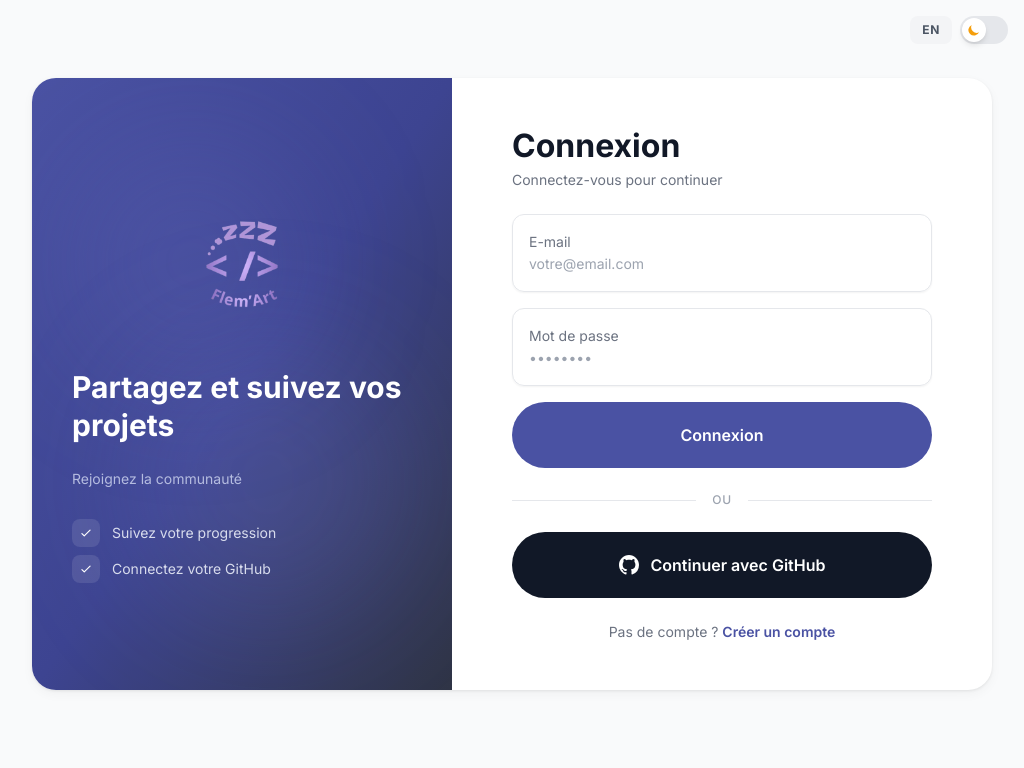
Test: Login Component › should display an error message on failed login
The width and height of the screenshot is (1024, 768).
Step 1. Type "wrong@example.com" into the field with placeholder "votre@email.com" → x=722, y=264, box [529, 254, 915, 274]
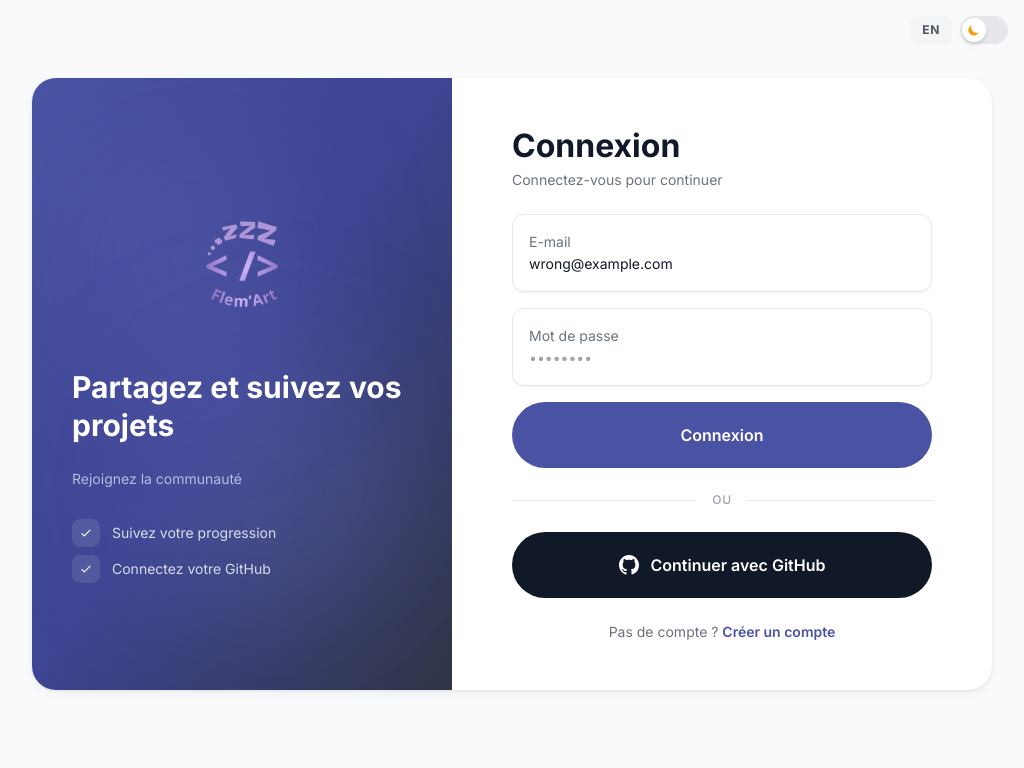
Step 2. Type "wrongpassword" into the password field with placeholder "••••••••" → x=722, y=358, box [529, 348, 915, 368]
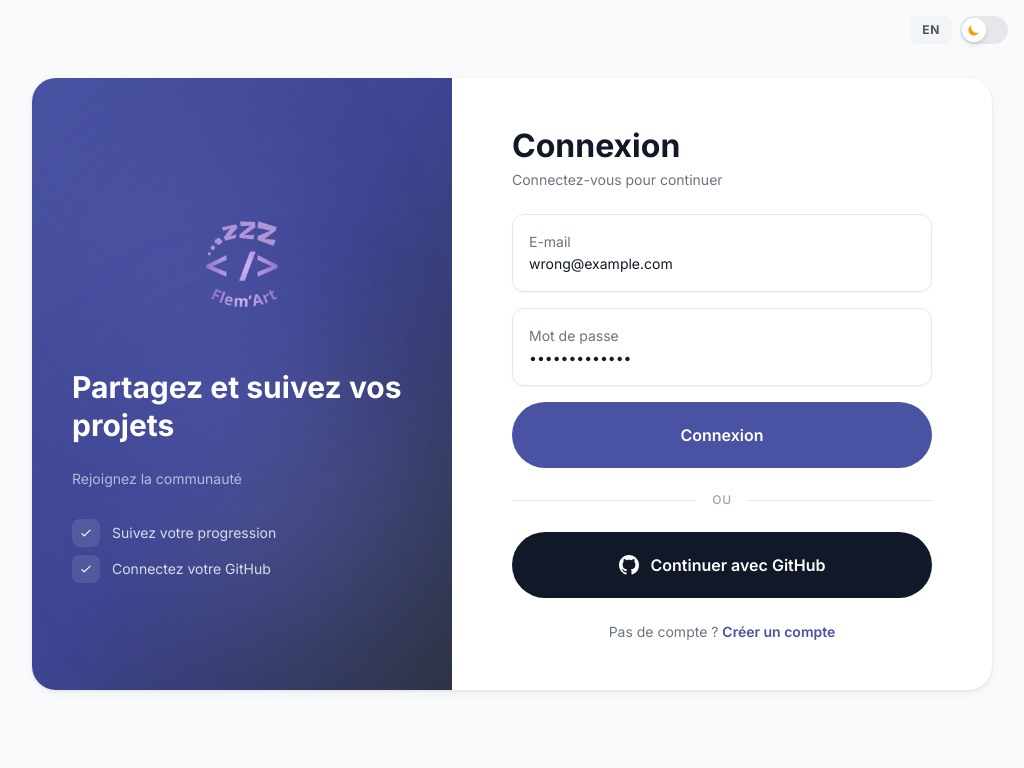
Step 3. Click the button "Connexion" → x=722, y=435, box [512, 402, 932, 468]
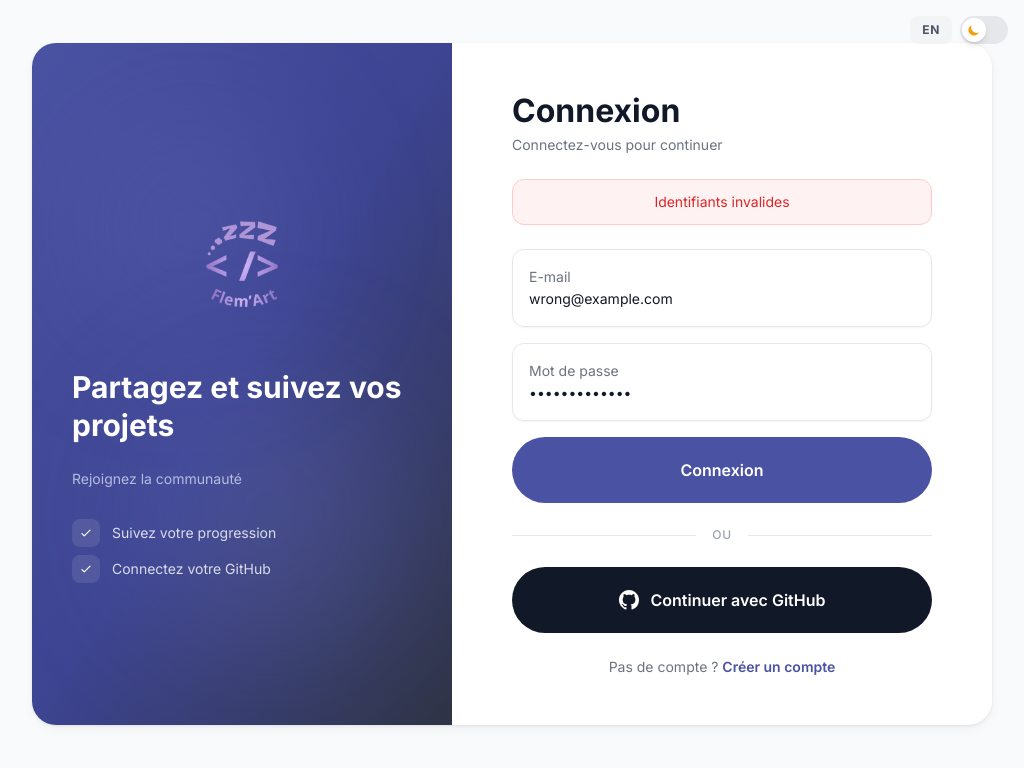
Expected: the text "Identifiants invalides" is shown, [512, 179, 932, 225]
